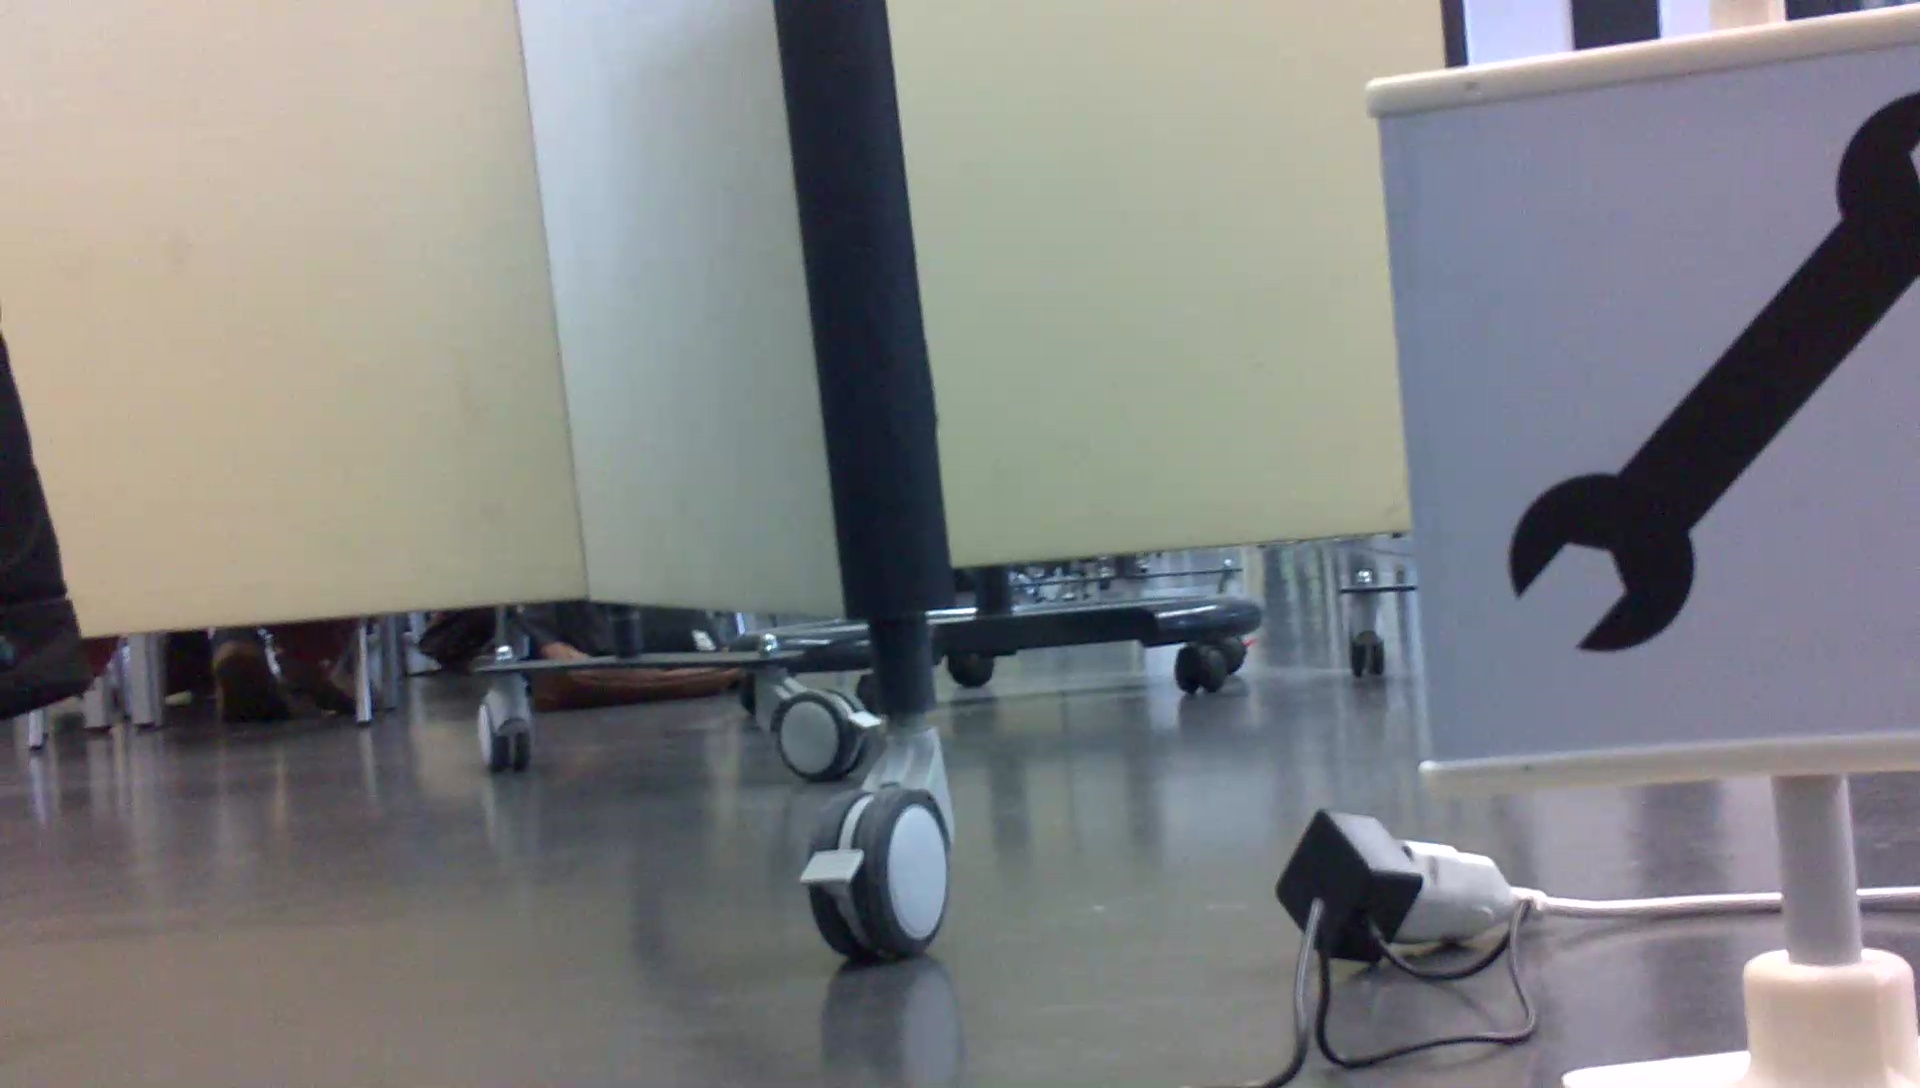wrench: (1499, 76, 1920, 667)
